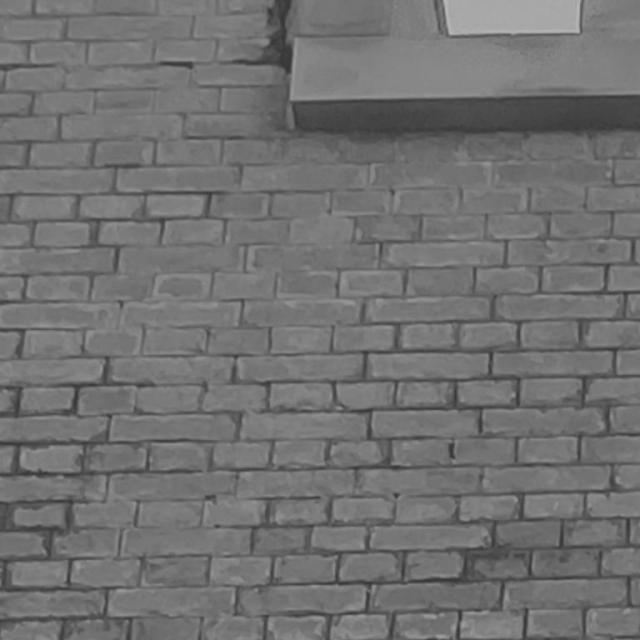crack: (233, 1, 291, 76)
